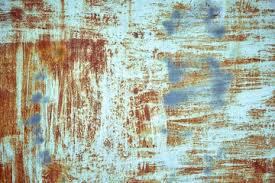rust: (3, 33, 40, 183), (30, 29, 111, 77), (126, 85, 162, 151), (217, 154, 275, 182), (163, 115, 205, 150), (7, 2, 57, 27), (219, 30, 261, 44), (219, 56, 264, 68)
